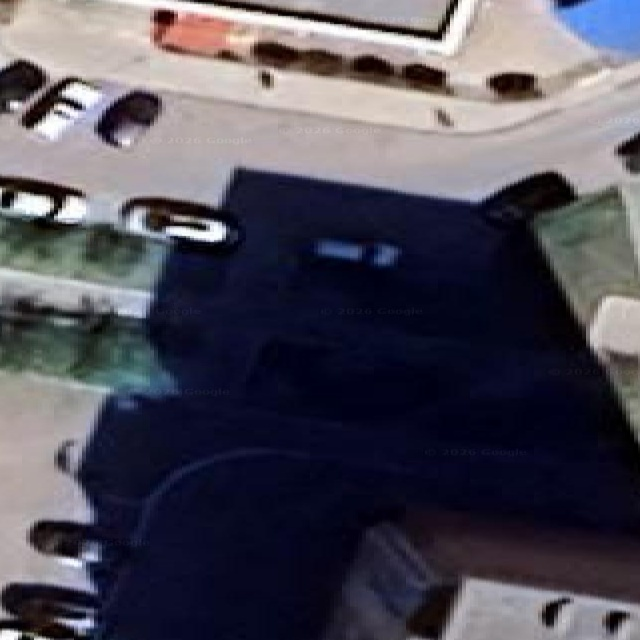car: (124, 198, 240, 247), (480, 172, 575, 226), (0, 583, 98, 633), (23, 80, 103, 140), (0, 178, 87, 224), (96, 91, 160, 148), (27, 520, 101, 566), (588, 296, 639, 356), (312, 238, 400, 268), (0, 60, 45, 111), (0, 187, 54, 218), (0, 619, 83, 639), (615, 132, 639, 172), (55, 439, 80, 476)
